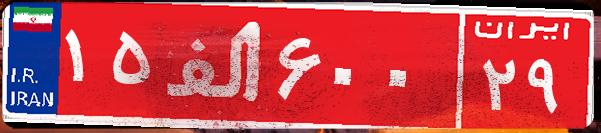0: (385, 28, 445, 110), (330, 28, 385, 110)
1: (57, 26, 110, 107)
2: (475, 38, 525, 113)
5: (110, 28, 158, 105)
6: (273, 28, 330, 110)
9: (525, 38, 570, 115)
الف: (158, 15, 273, 115)
